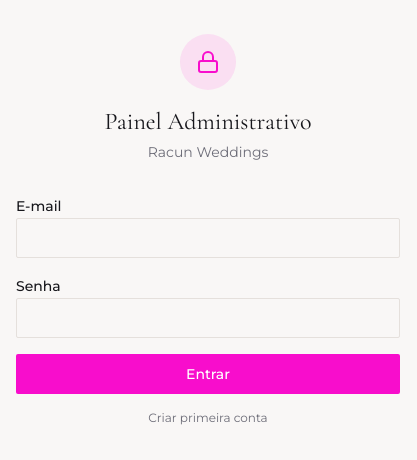
Test case: Lockout do login do painel › registra a falha e ativa o lockout retornado pelo backend
The width and height of the screenshot is (417, 460).
In the field labelled "E-mail": (208,238) [16,218,400,258], type "admin@racun.com"
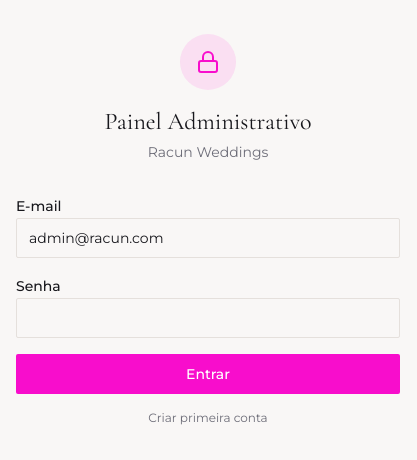
In the password field labelled "Senha": (208,318) [16,298,400,338], type "senha-errada"
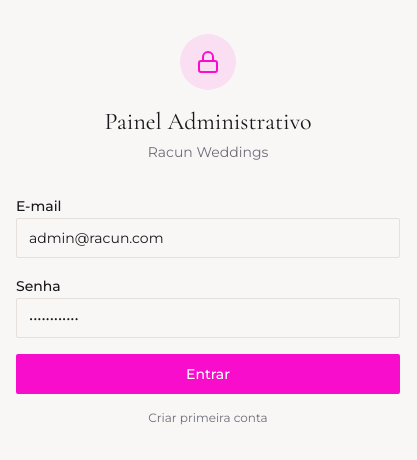
Click the button "Entrar": (208,374) [16,354,400,394]
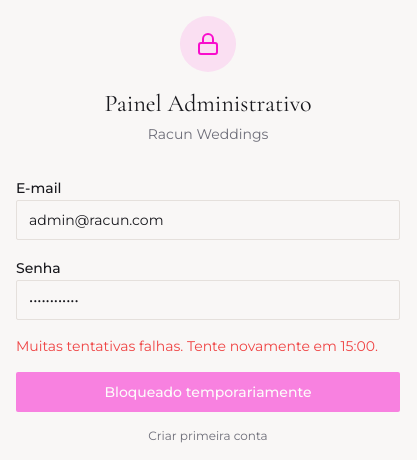
Result: the text "Muitas tentativas falhas. Tente novamente em 15:00." is shown at [16,336,400,356]
